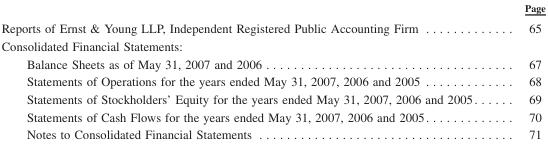table: (0, 1, 544, 141)
table column: (0, 1, 500, 141), (500, 1, 544, 141)
table column header: (0, 1, 544, 16)
table projected row header: (0, 36, 544, 54)
table row: (0, 16, 544, 36), (0, 36, 544, 54), (0, 54, 544, 72), (0, 89, 544, 107), (0, 107, 544, 125), (0, 72, 544, 89), (0, 125, 544, 141), (0, 1, 544, 16)
